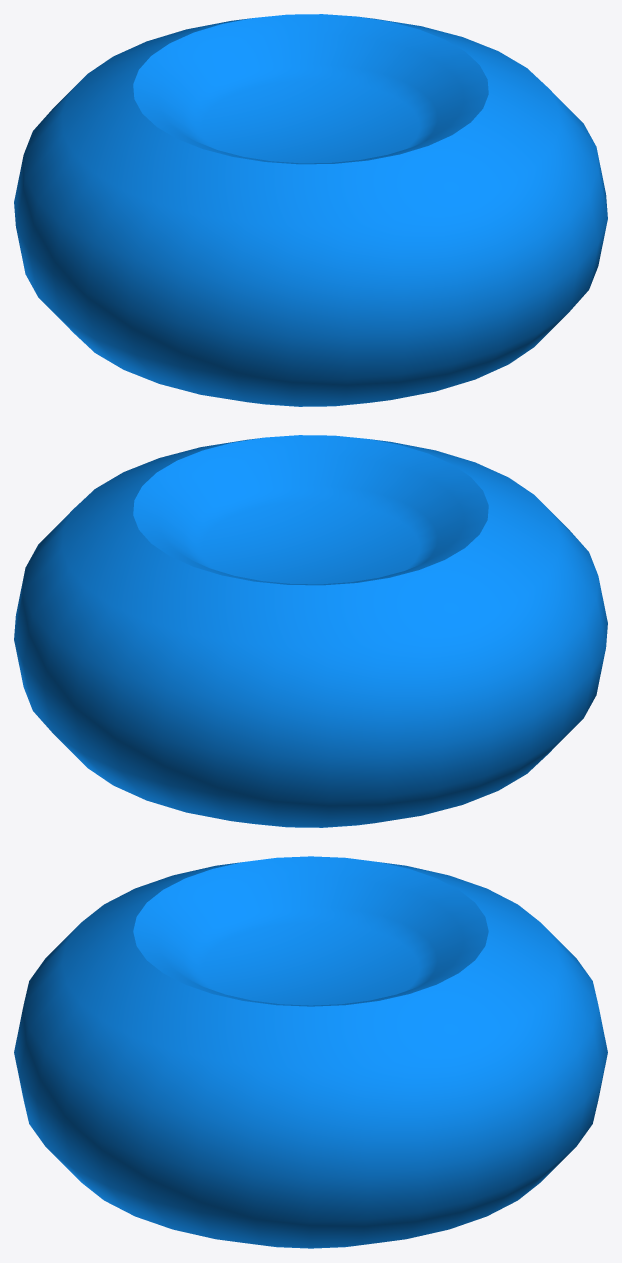
File: Circle.blue.fbx
The picture shows the model from 3 angles, top to bottom: view 1: azimuth 30°, elevation 25°; view 2: azimuth 150°, elevation 25°; view 3: azimuth 270°, elevation 25°; orthographic projection.
Parts seen in each view (by area): view 1: Circle.blue; view 2: Circle.blue; view 3: Circle.blue.
Part boxes in pixels (x1,y1,x2,y2): Circle.blue: [14, 14, 607, 406]; Circle.blue: [14, 435, 607, 827]; Circle.blue: [14, 856, 607, 1248].
Bounding box in the file's own units: 33.73 × 15.16 × 33.73.
